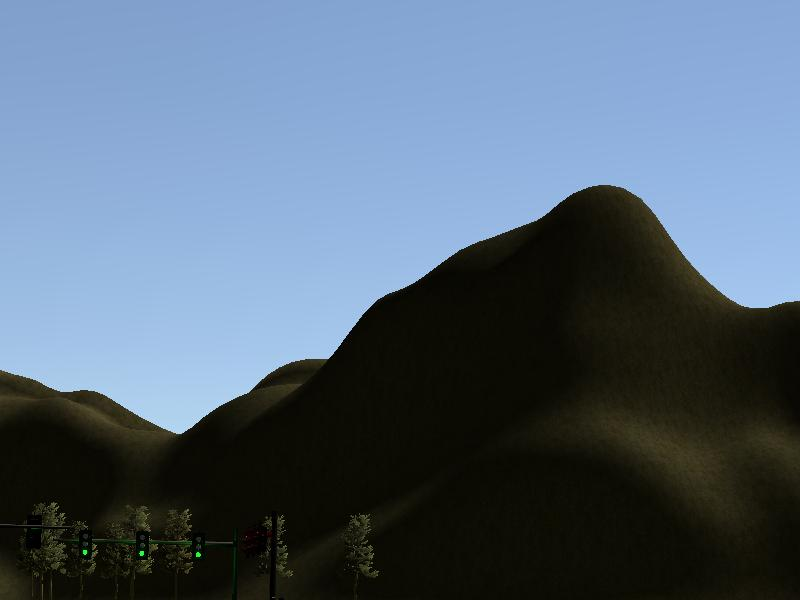Green: (78, 528, 94, 558), (134, 531, 150, 560), (190, 532, 203, 560)
